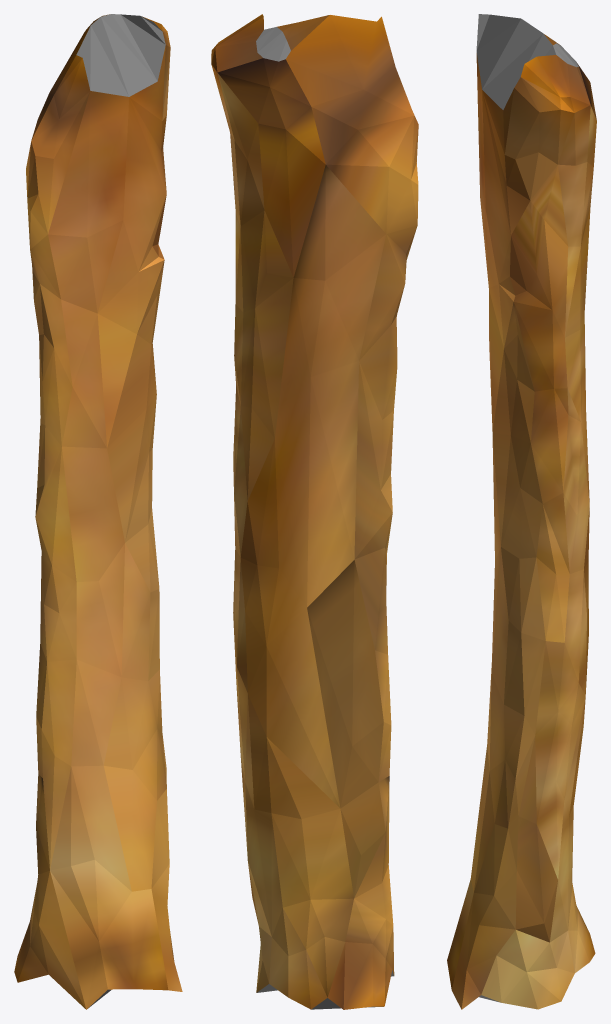
Rendered from propodite5_right_collision.obj.
The picture shows the model from 3 angles, left to right: view 1: azimuth 30°, elevation 25°; view 2: azimuth 150°, elevation 25°; view 3: azimuth 270°, elevation 25°; orthographic projection. The views are drawn at different scales.
Visible parts, largest first — view 1: 5_left_leg_5_left.010; view 2: 5_left_leg_5_left.010; view 3: 5_left_leg_5_left.010.
Part boxes in pixels (x1=…): 5_left_leg_5_left.010: x1=14, y1=14, x2=182, y2=1009; 5_left_leg_5_left.010: x1=211, y1=14, x2=418, y2=1009; 5_left_leg_5_left.010: x1=447, y1=14, x2=596, y2=1009.
Bounding box in the file's own units: 0.2907 × 1.57 × 0.2222.
13 materials, 11 textured.
